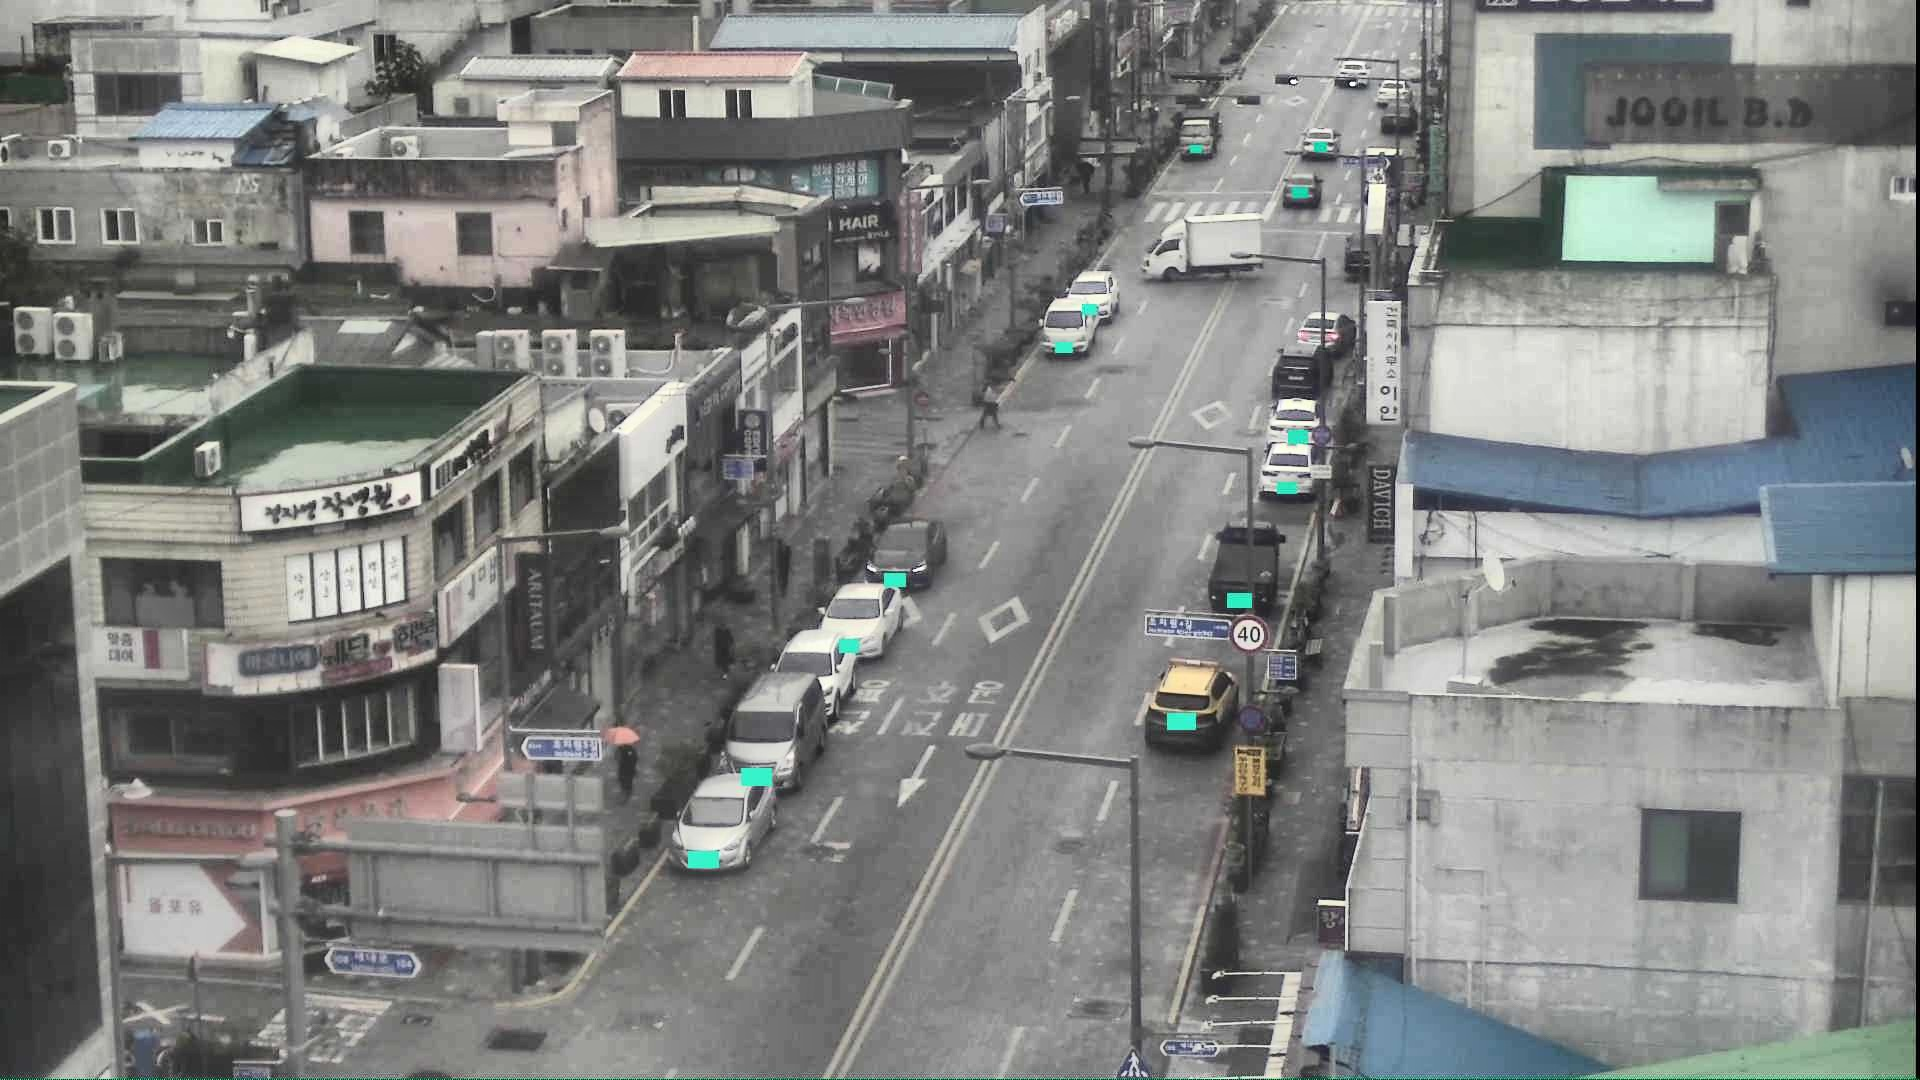sidewalk: (775, 541, 795, 596)
um_jaywalk: (978, 371, 1015, 429)
um_sidewalk: (600, 724, 644, 807), (702, 607, 738, 678), (1073, 161, 1096, 194)
